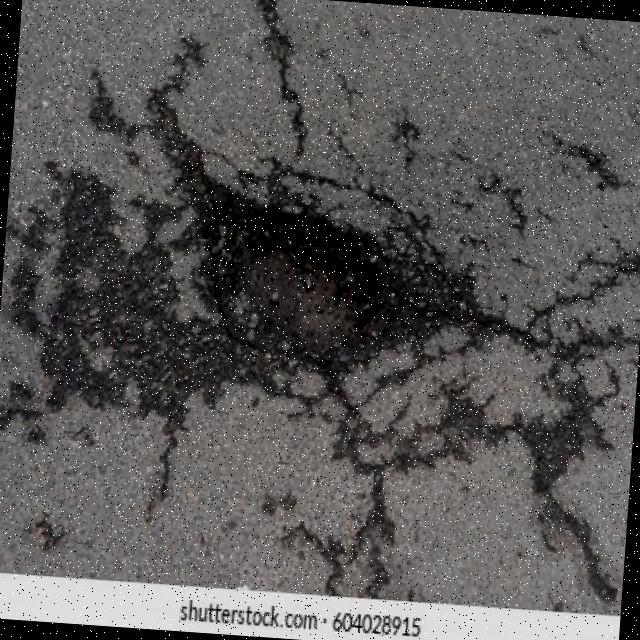Pothole: (223, 199, 380, 365)
